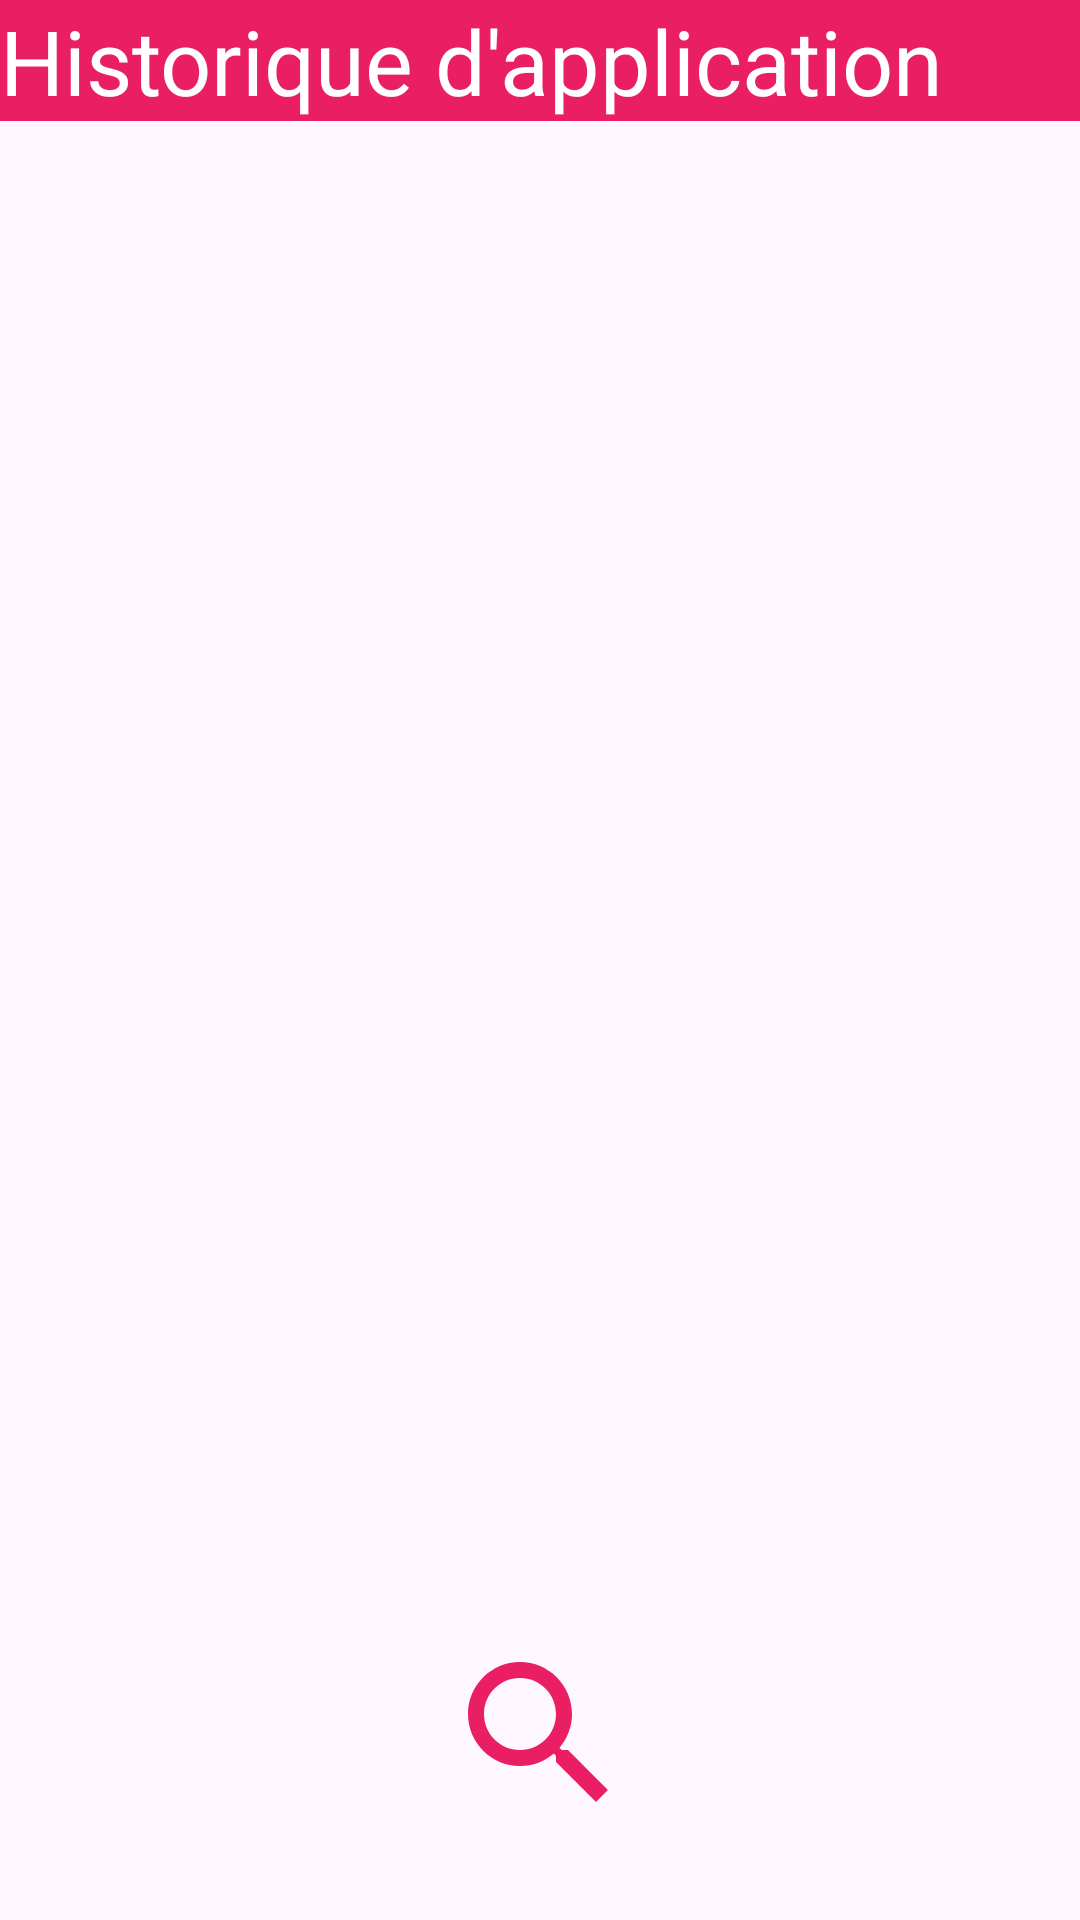

Locate icon controls on the screen. Image size 1080×1920, boxes as (x1, y1, x2, y2).
search 24rose: (468, 1662, 608, 1802)
